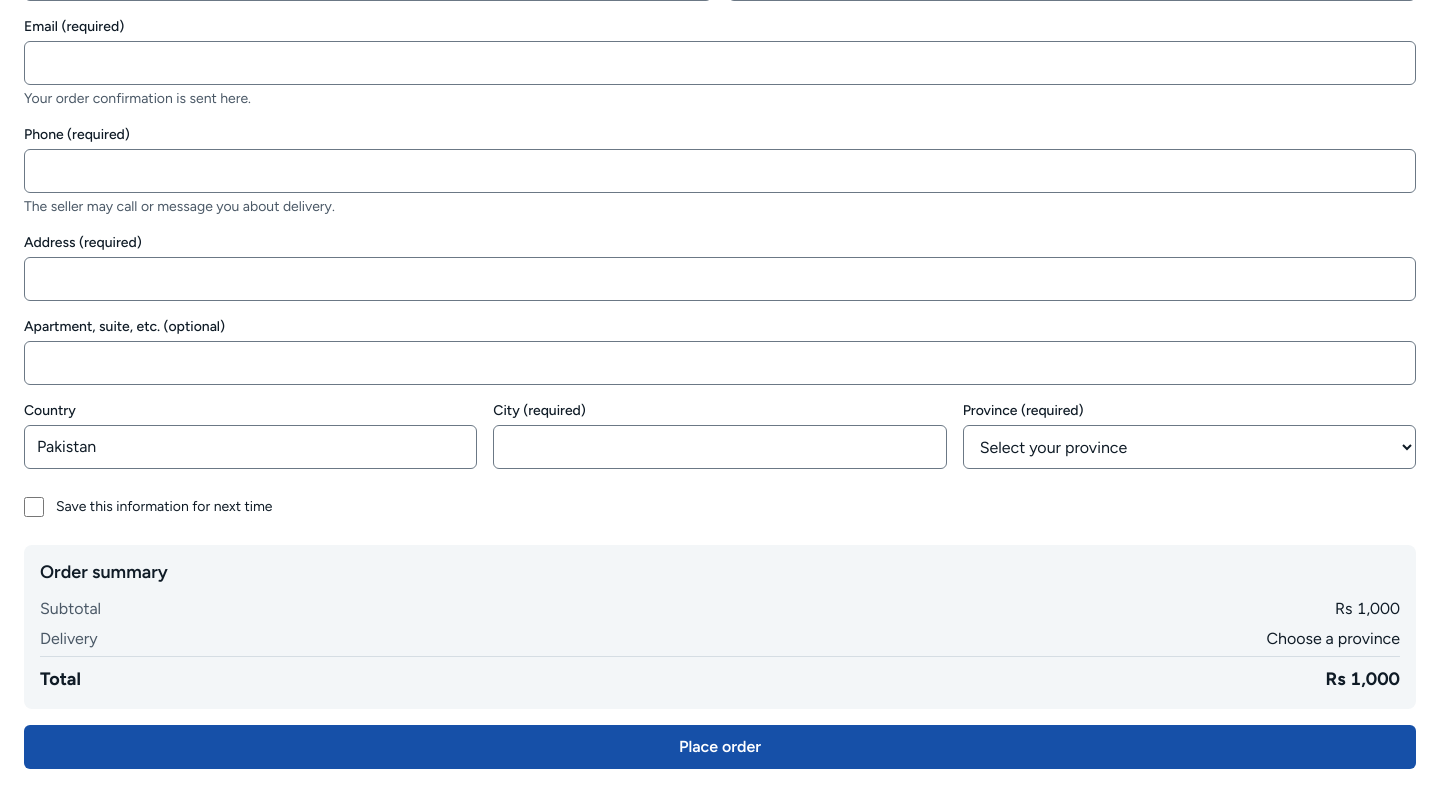
Test: CheckoutForm › shows an error beside each required field and sends no order when submitted empty
(page scrolled)
What coordinates should you click on to do the following:
click the button "Place order"
I would click on:
 (720, 747)
Its box is [24, 725, 1416, 769].
(page scrolled)
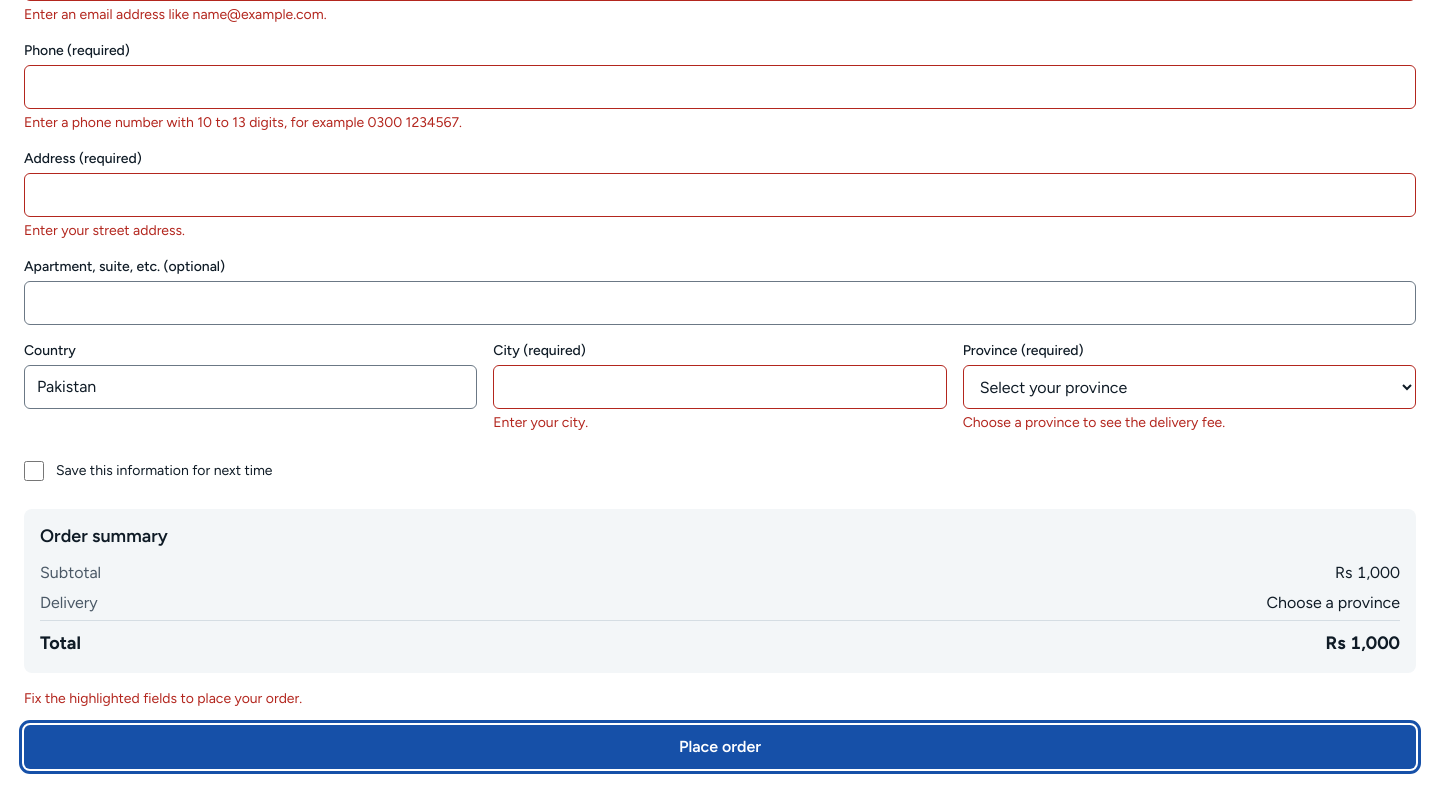
Now the text "Enter an email address like name@example.com." is shown, box [24, 6, 327, 23]
Now the text "Choose a province to see the delivery fee." is shown, box [963, 414, 1225, 431]
Now the message shows "Fix the highlighted fields", box [24, 690, 302, 707]
